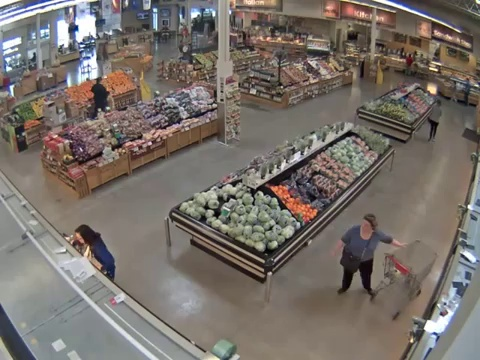face: (75, 232, 88, 246), (361, 220, 376, 230)
